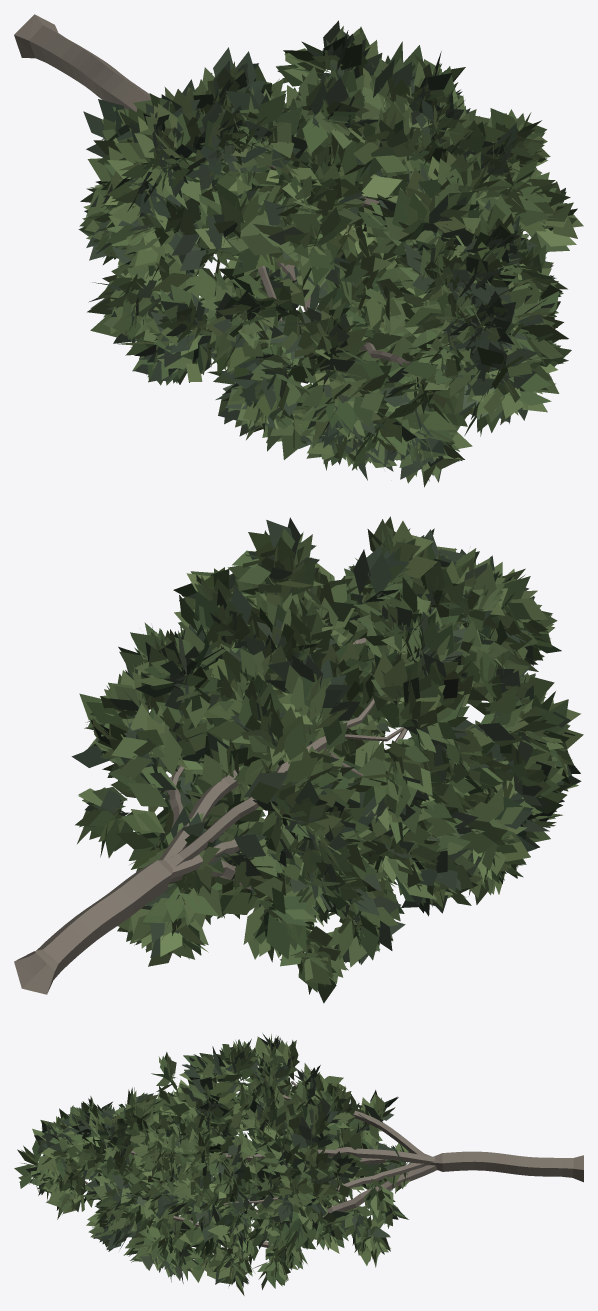
Rendered from tree_mid_10.obj.
The picture shows the model from 3 angles, top to bottom: view 1: azimuth 30°, elevation 25°; view 2: azimuth 150°, elevation 25°; view 3: azimuth 270°, elevation 25°; orthographic projection. The views are drawn at different scales.
Parts seen in each view (by area): view 1: tree_mid_10; view 2: tree_mid_10; view 3: tree_mid_10.
Part boxes in pixels (x1,y1,x2,y2): tree_mid_10: (14,14,583,487); tree_mid_10: (14,516,583,1003); tree_mid_10: (14,1033,583,1295).
Size of the model in its own units: 0.4894 by 0.4465 by 1.01.
Materials: 1 (1 with a texture image).
